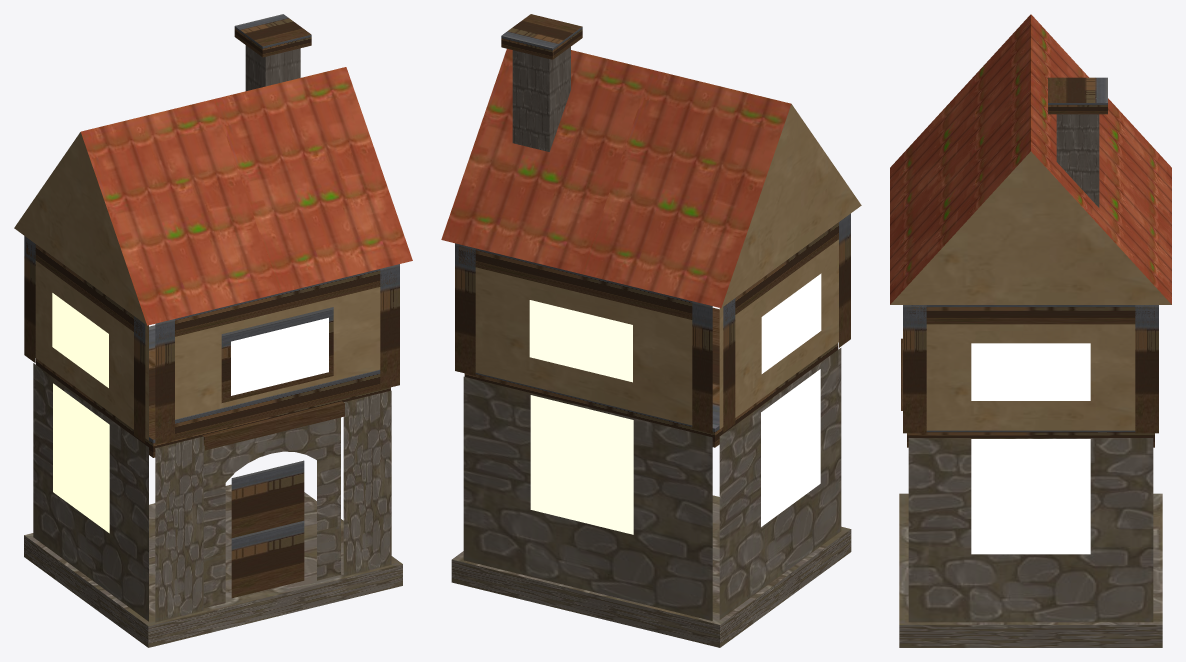
The model's file is cottage_tall.glb.
The picture shows the model from 3 angles, left to right: view 1: azimuth 30°, elevation 25°; view 2: azimuth 150°, elevation 25°; view 3: azimuth 270°, elevation 25°; orthographic projection. The views are drawn at different scales.
Size of the model in its own units: 3.8 by 6.9 by 3.3.
Materials: 2 (1 with a texture image).
